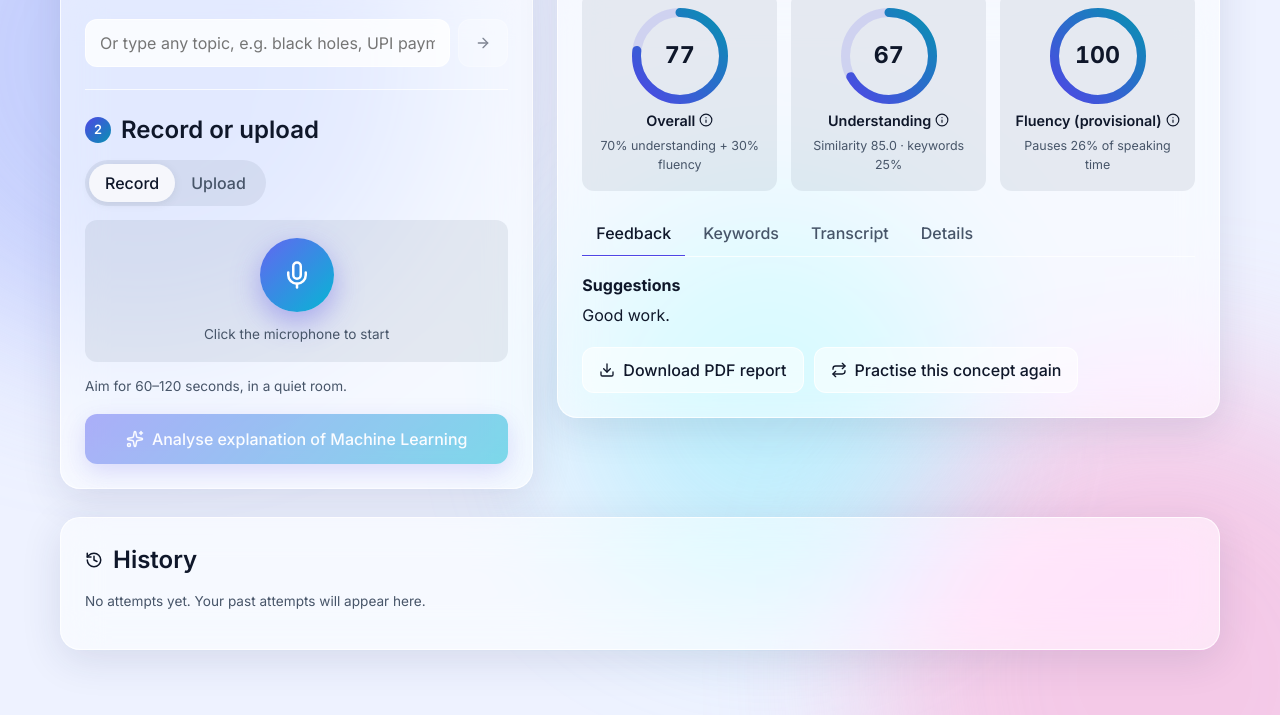
Test: App practise again › switches the picker to the opened attempt concept
The width and height of the screenshot is (1280, 715).
(page scrolled)
Click the button "Practise this concept again" at (946, 370), box [814,347,1078,393]
(page scrolled)
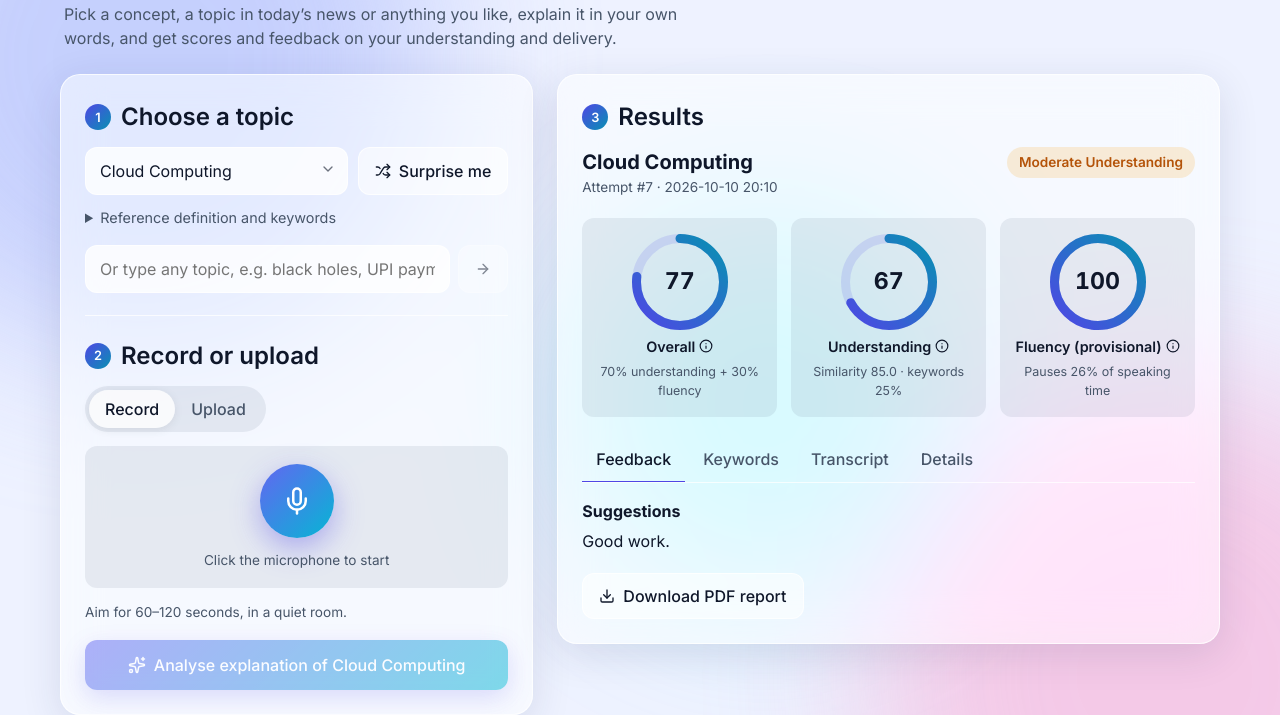
Now the button "Analyse explanation of Cloud Computing" is shown, box [85,640,508,690]
